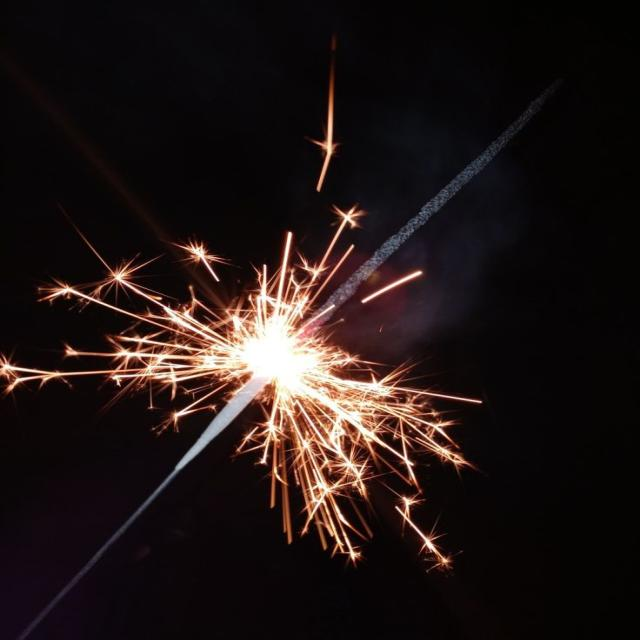fire: (18, 103, 539, 640), (198, 312, 333, 401)
